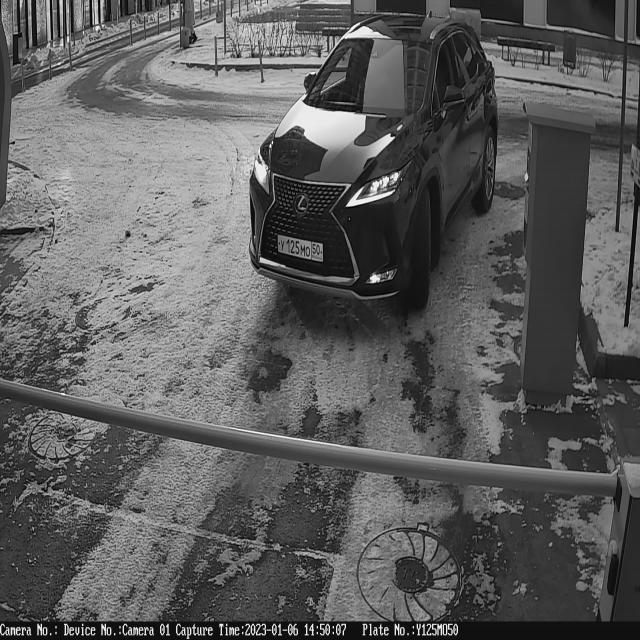car-plate-numbers: (274, 231, 329, 267)
